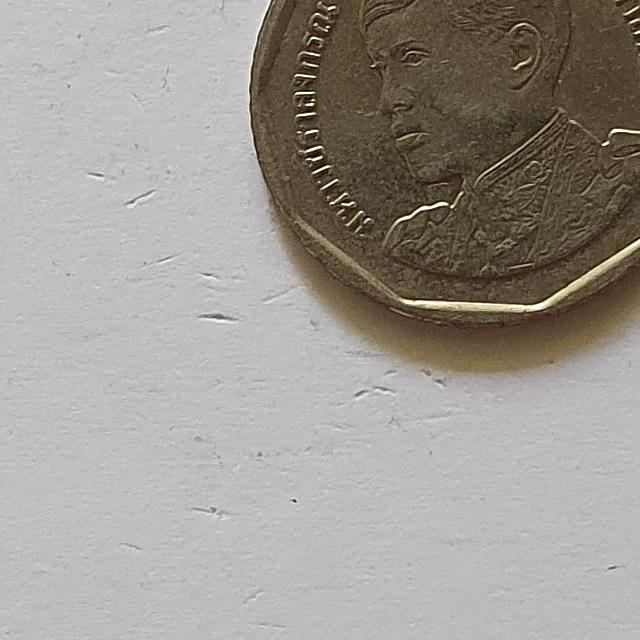5 Bath: (241, 2, 640, 334)
